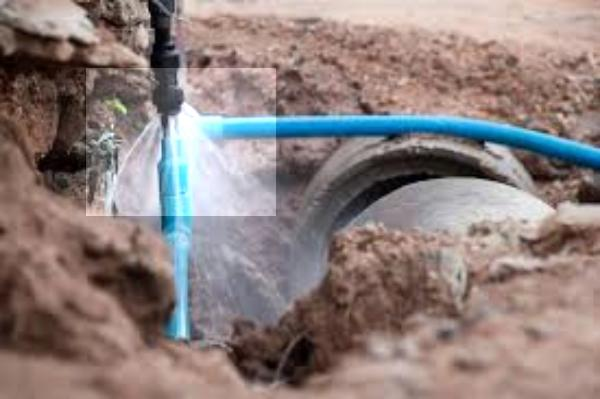water: (86, 68, 276, 216)
